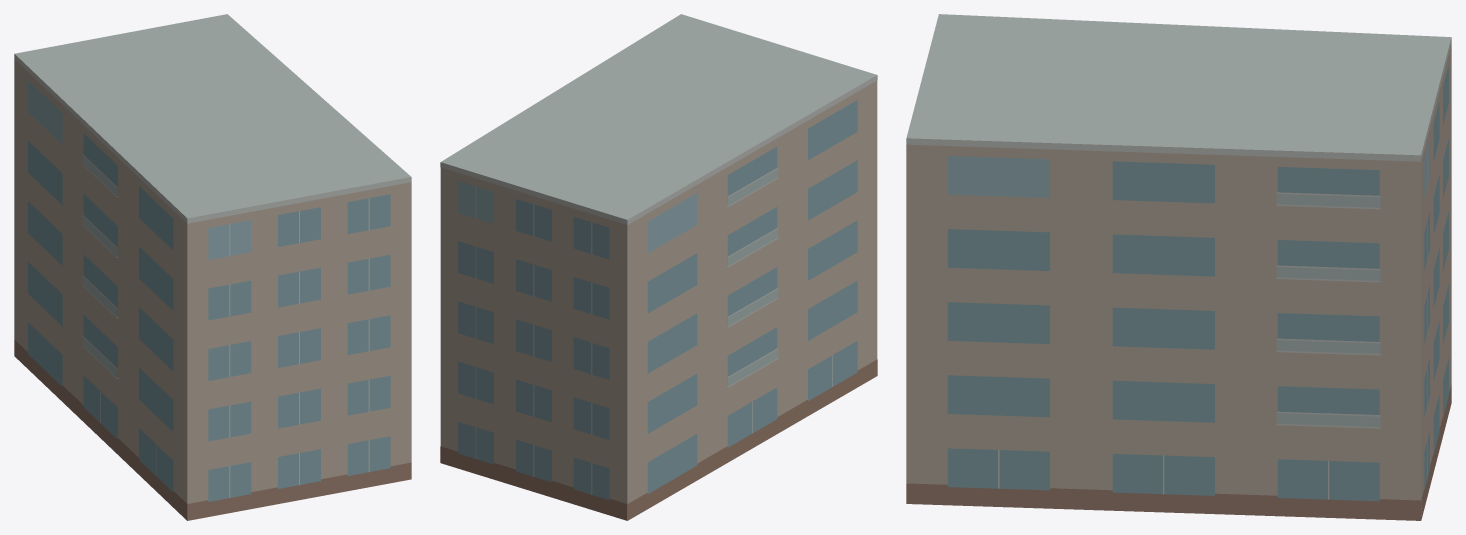
The model's file is survey-upis-33033542.glb.
3 renders of one model, left to right at view 1: azimuth 30°, elevation 25°; view 2: azimuth 150°, elevation 25°; view 3: azimuth 270°, elevation 25°, orthographic. The views are drawn at different scales.
Visible parts, largest first — view 1: survey-upis-33033542.tmp; view 2: survey-upis-33033542.tmp; view 3: survey-upis-33033542.tmp.
Boxes of the visible parts, box(x1,y1,x2,y2) form: survey-upis-33033542.tmp: box(14, 14, 411, 520); survey-upis-33033542.tmp: box(440, 14, 877, 520); survey-upis-33033542.tmp: box(906, 14, 1451, 520).
Size of the model in its own units: 11.7 by 14.1 by 19.07.
